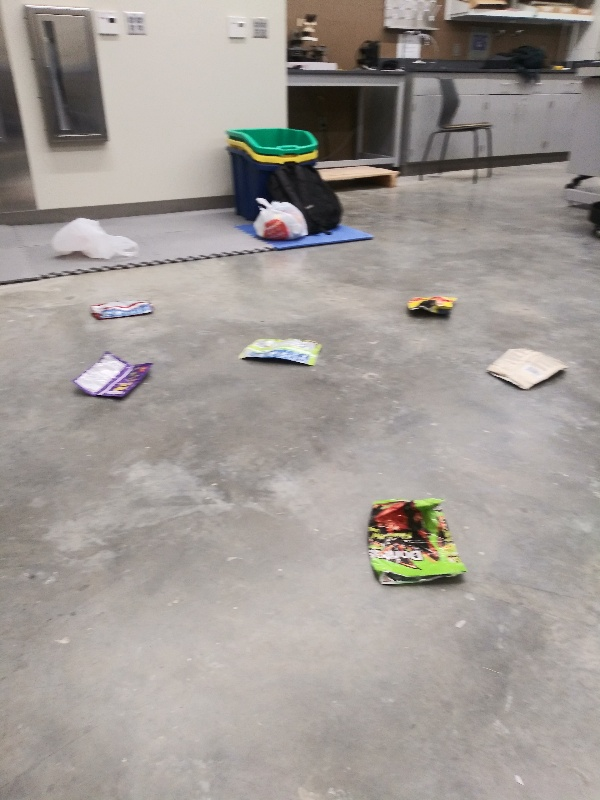bag: (364, 492, 474, 593), (72, 348, 157, 403), (482, 345, 571, 392), (236, 331, 324, 368), (401, 292, 465, 323), (82, 296, 161, 320)
